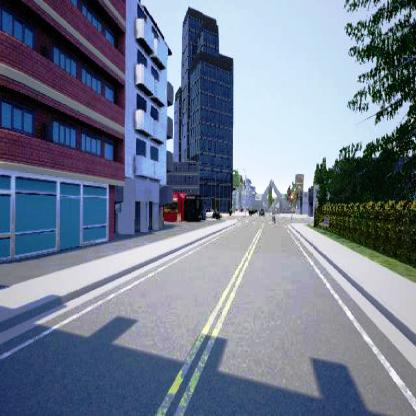bike: (270, 206, 277, 226)
